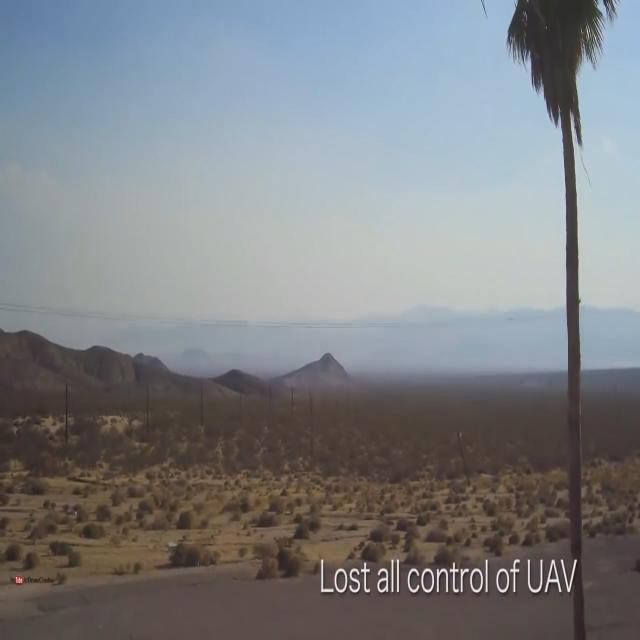Tree: (497, 0, 615, 640)
